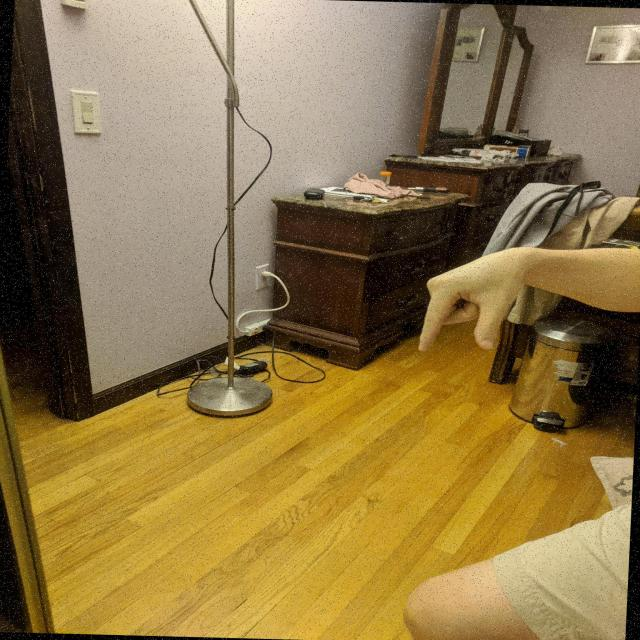Q: (414, 241, 530, 358)
